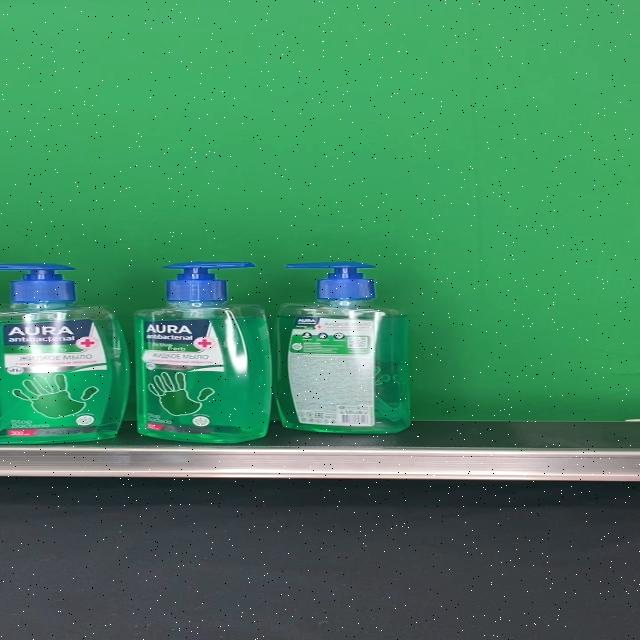Bottle: (133, 260, 271, 443), (271, 261, 411, 434), (0, 263, 129, 444)
Cap: (162, 260, 258, 302), (284, 262, 376, 302), (0, 263, 76, 301)
